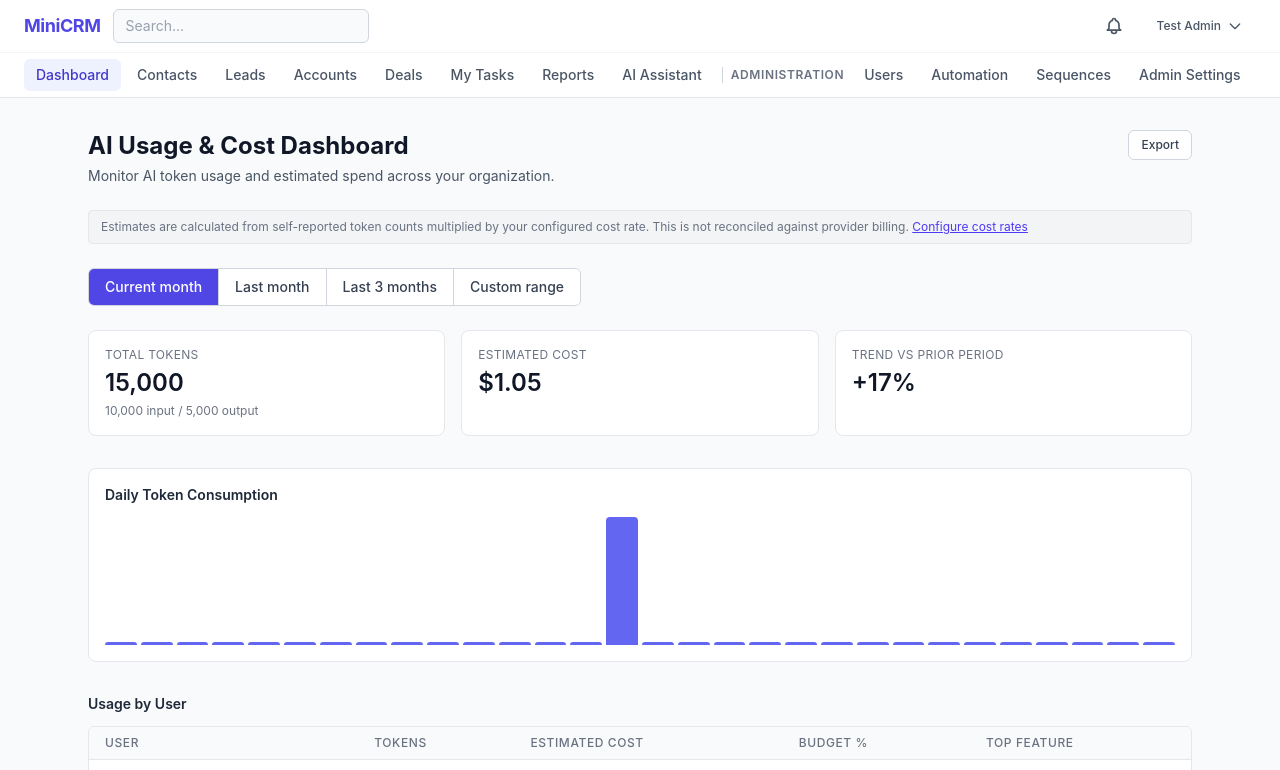
AiUsageDashboardPage — date range selector › shows custom date inputs when custom range is selected
What coordinates should you click on to do the following:
click the button with test id "ai-usage-range-custom"
I would click on:
 (517, 287)
Its box is top-left (454, 269), bottom-right (580, 305).
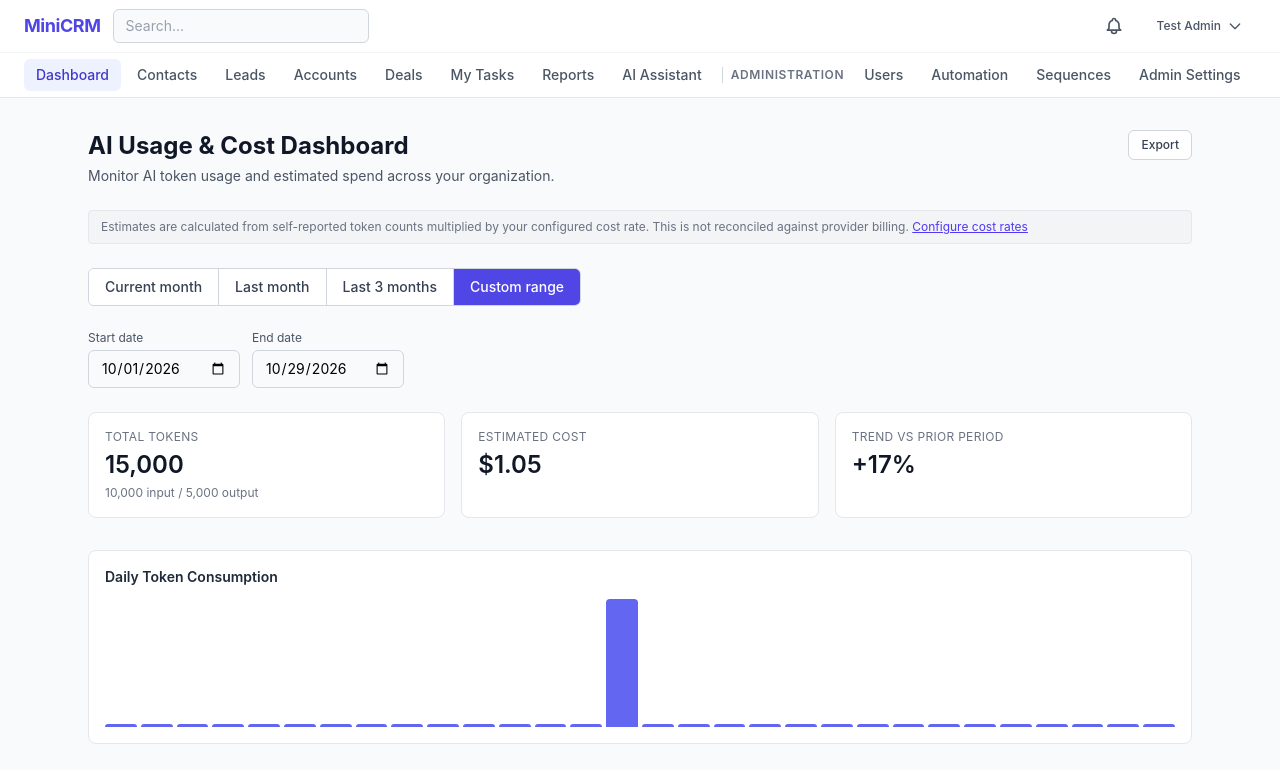
Now the date field with test id "ai-usage-custom-start-input" is shown, box top-left (88, 350), bottom-right (240, 388)
Now the date field with test id "ai-usage-custom-end-input" is shown, box top-left (252, 350), bottom-right (404, 388)
